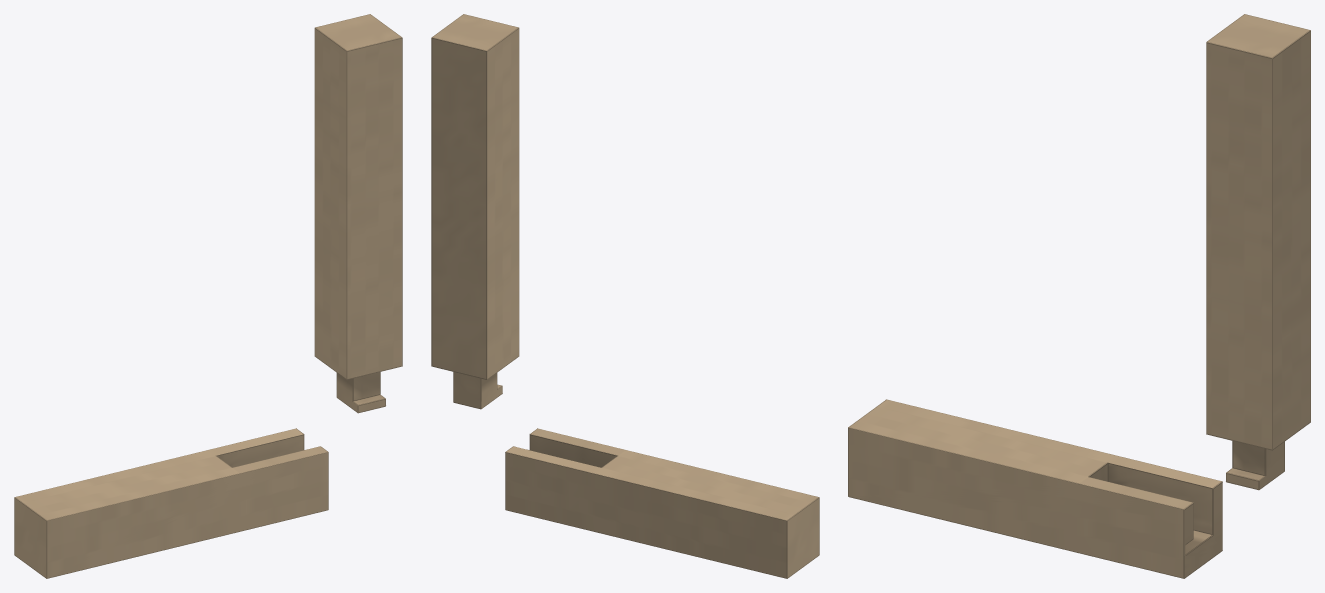
The model's file is kata-kama-hozo-sashi.glb.
3 views of the same model, side by side, from view 1: azimuth 30°, elevation 25°; view 2: azimuth 150°, elevation 25°; view 3: azimuth 330°, elevation 25° (orthographic). The views are drawn at different scales.
Parts seen in each view (by area): view 1: part-b, part-a; view 2: part-b, part-a; view 3: part-b, part-a.
Boxes of the visible parts, x1,y1,x2,y2 form: part-b: (314, 14, 402, 413); part-a: (14, 428, 328, 578); part-b: (431, 14, 519, 409); part-a: (505, 428, 819, 578); part-b: (1206, 14, 1310, 490); part-a: (848, 399, 1222, 578).
Bounding box in the file's own units: 0.7708 × 0.9408 × 0.1208.
